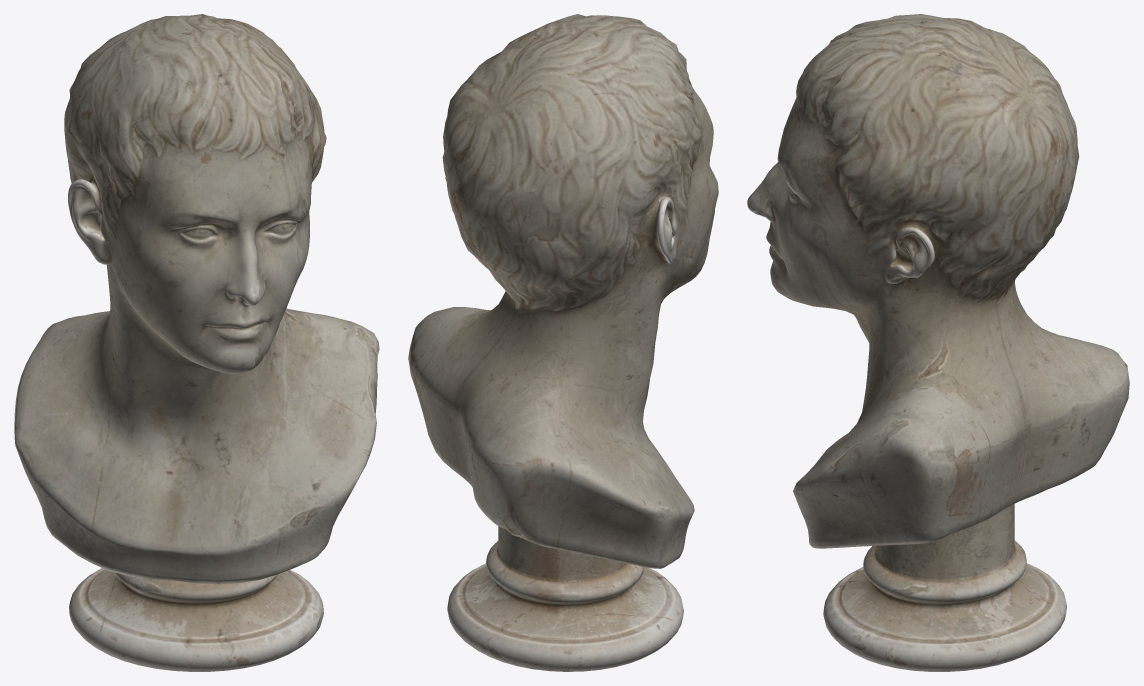
File: bust.glb
The picture shows the model from 3 angles, left to right: view 1: azimuth 30°, elevation 25°; view 2: azimuth 150°, elevation 25°; view 3: azimuth 270°, elevation 25°; orthographic projection. The views are drawn at different scales.
Parts seen in each view (by area): view 1: marble_bust_01; view 2: marble_bust_01; view 3: marble_bust_01.
Boxes of the visible parts, x1,y1,x2,y2 form: marble_bust_01: [14, 14, 379, 671]; marble_bust_01: [408, 14, 718, 671]; marble_bust_01: [747, 14, 1129, 671].
Size of the model in its own units: 0.2717 by 0.5149 by 0.2997.
1 material, 1 textured.
